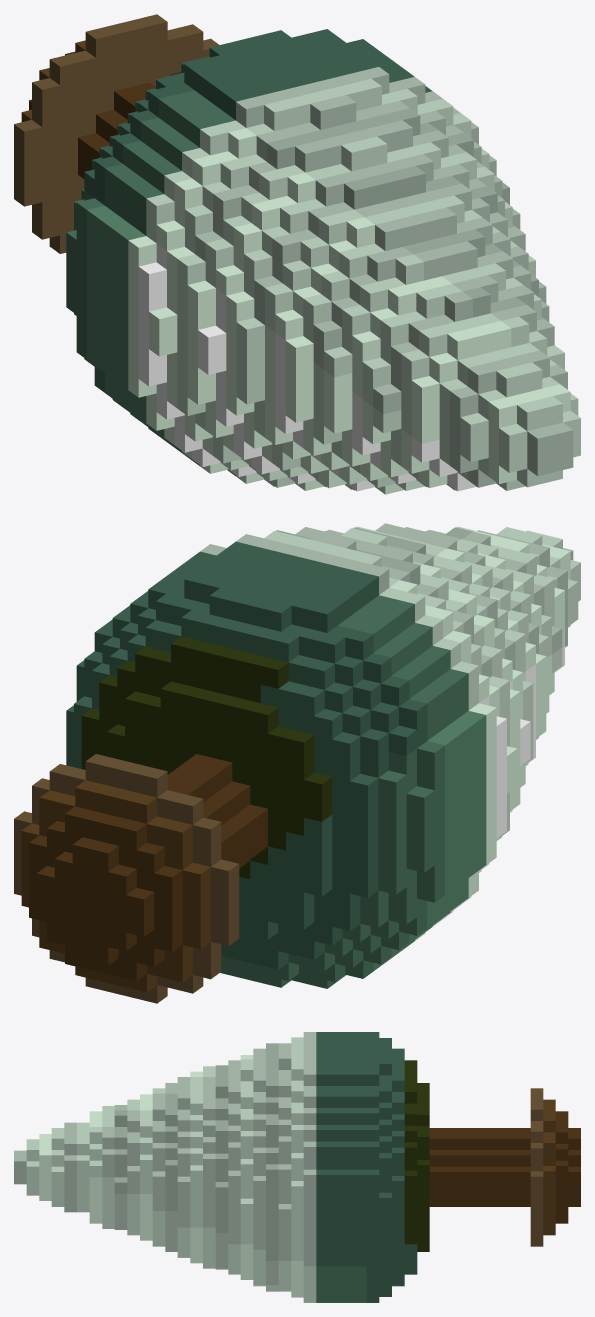
The model's file is tree_snow_blue.obj.
3 views of the same model, one above another, from view 1: azimuth 30°, elevation 25°; view 2: azimuth 150°, elevation 25°; view 3: azimuth 270°, elevation 25° (orthographic). The views are drawn at different scales.
Bounding box in the file's own units: 2 × 2 × 4.5.
1 material, 1 textured.
